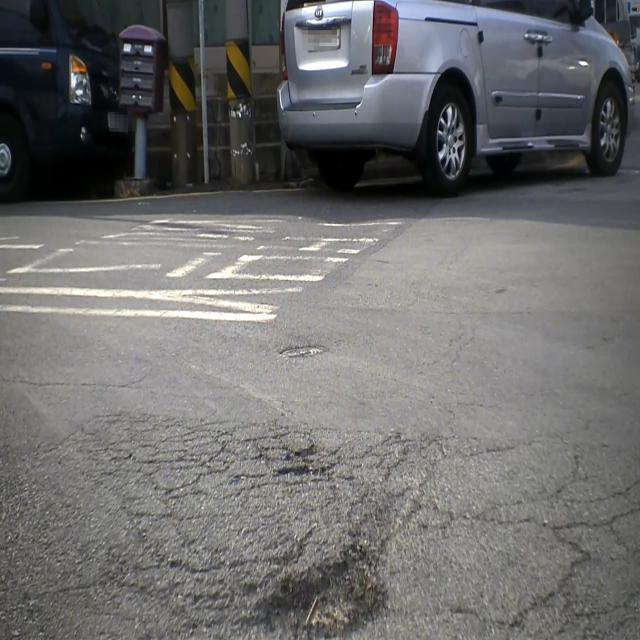pothole: (232, 544, 396, 640), (268, 434, 339, 485)
